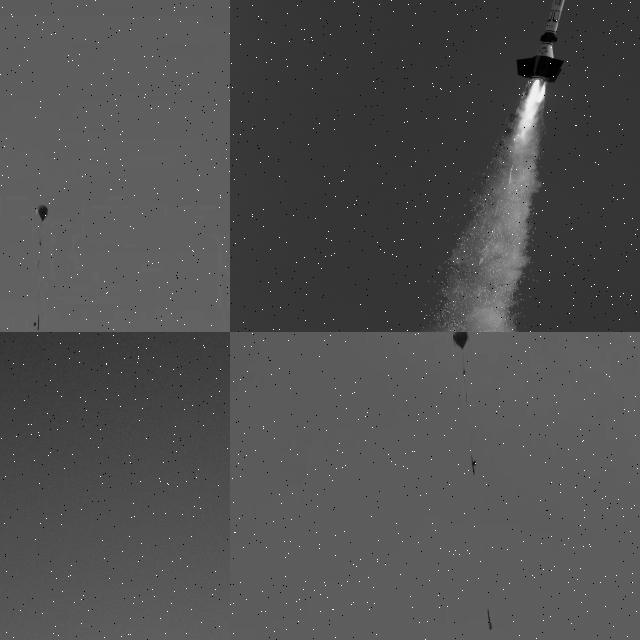Rocket: (514, 0, 571, 83), (488, 610, 492, 630)
